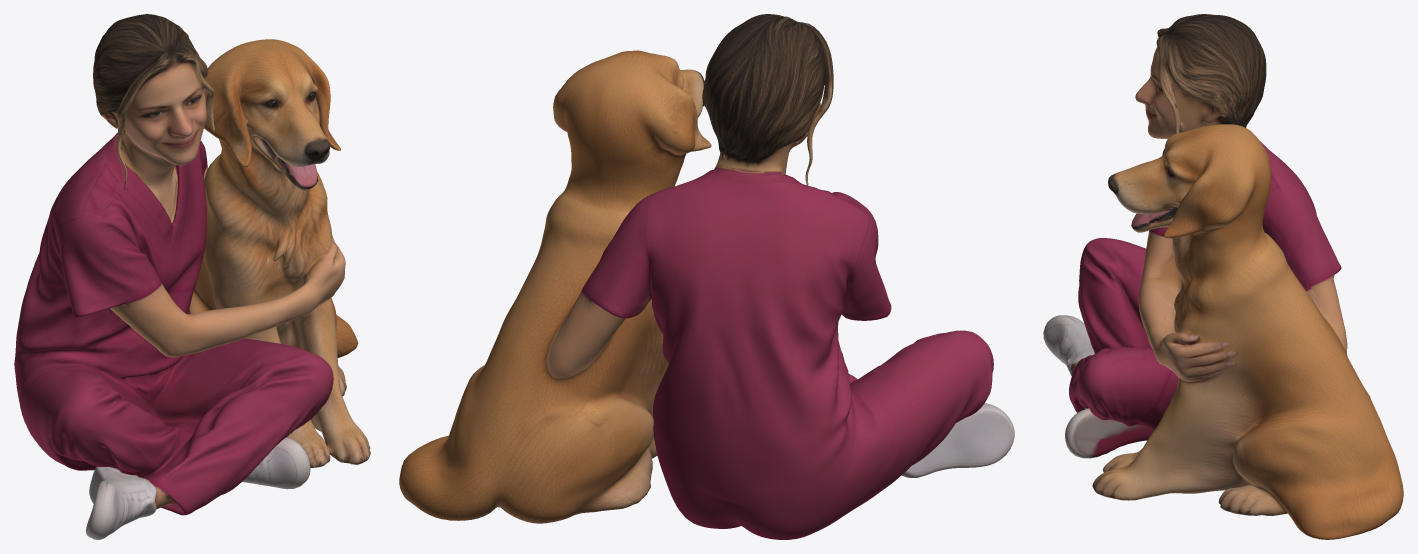
The model's file is lili.glb.
3 renders of one model, left to right at view 1: azimuth 30°, elevation 25°; view 2: azimuth 150°, elevation 25°; view 3: azimuth 270°, elevation 25°, orthographic. The views are drawn at different scales.
Visible parts, largest first — view 1: tripo_node_14df82a2-d061-4a65-91d9-be796bbaad57; view 2: tripo_node_14df82a2-d061-4a65-91d9-be796bbaad57; view 3: tripo_node_14df82a2-d061-4a65-91d9-be796bbaad57.
Boxes of the visible parts, x1=… form: tripo_node_14df82a2-d061-4a65-91d9-be796bbaad57: x1=14, y1=14, x2=370, y2=539; tripo_node_14df82a2-d061-4a65-91d9-be796bbaad57: x1=399, y1=14, x2=1014, y2=539; tripo_node_14df82a2-d061-4a65-91d9-be796bbaad57: x1=1043, y1=14, x2=1403, y2=539.
Size of the model in its own units: 0.9738 by 0.9712 by 0.779.
Materials: 1 (1 with a texture image).
